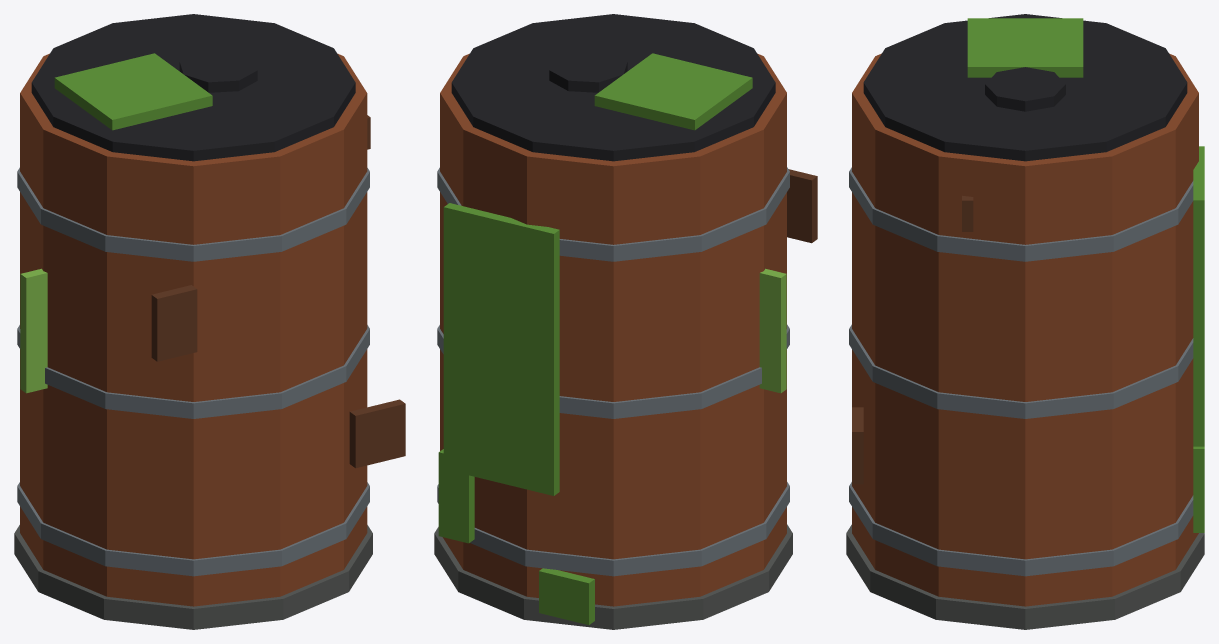
File: green_smoke_barrel.glb
3 views of the same model, side by side, from view 1: azimuth 30°, elevation 25°; view 2: azimuth 150°, elevation 25°; view 3: azimuth 270°, elevation 25° (orthographic).
Parts seen in each view (by area): view 1: green_smoke_barrel; view 2: green_smoke_barrel; view 3: green_smoke_barrel.
Part boxes in pixels (x1,y1,x2,y2): green_smoke_barrel: [14, 14, 405, 629]; green_smoke_barrel: [434, 14, 817, 629]; green_smoke_barrel: [846, 14, 1204, 629].
Bounding box in the file's own units: 0.65 × 0.92 × 0.62.
3 materials, 3 textured.
